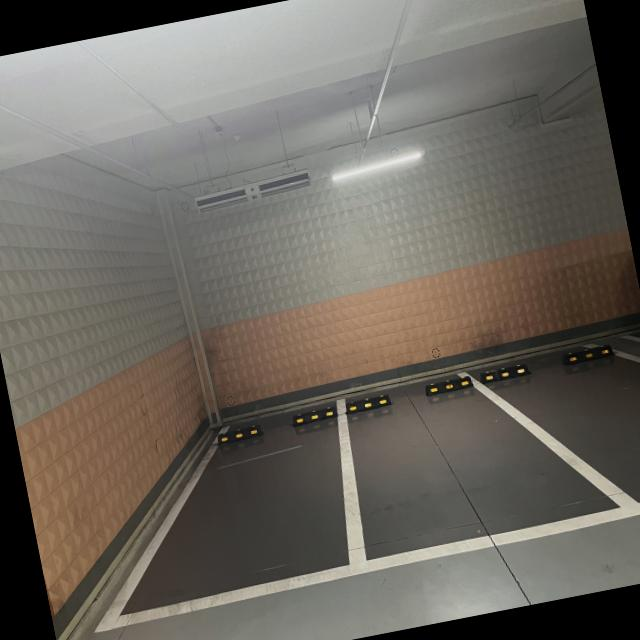free: (85, 397, 362, 638), (341, 367, 640, 585)
